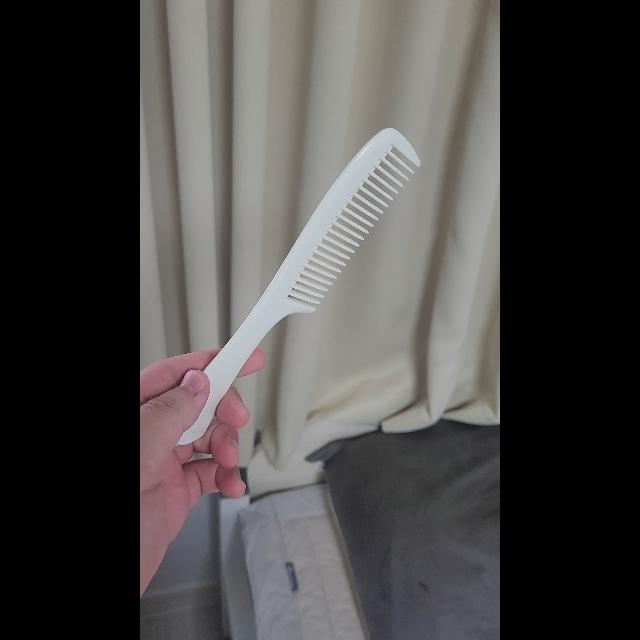COMB: (176, 128, 420, 446)
